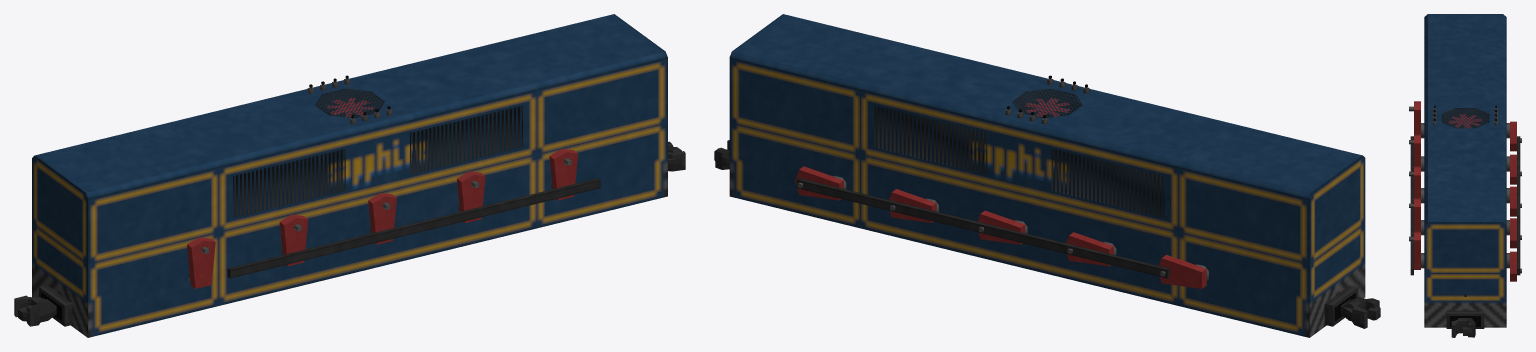
The model's file is sur_d2b.obj.
3 views of the same model, side by side, from view 1: azimuth 30°, elevation 25°; view 2: azimuth 150°, elevation 25°; view 3: azimuth 270°, elevation 25° (orthographic). The views are drawn at different scales.
Parts seen in each view (by area): view 1: FRAME, ENGINE_START_1_TOGGLE, FRAME.003, SIDE_ROD_LEFT, FRAME.007, WHEEL_DRIVER_5, WHEEL_DRIVER_1, WHEEL_DRIVER_2, WHEEL_DRIVER_3, WHEEL_DRIVER_4, COUPLED_FRONT_2_HIDE_INVERT, FRAME.008 (+1 smaller); view 2: FRAME, ENGINE_START_1_TOGGLE, FRAME.003, SIDE_ROD_RIGHT, FRAME.007, WHEEL_DRIVER_5, COUPLED_FRONT_2_HIDE_INVERT, FRAME.008, WHEEL_DRIVER_3, WHEEL_DRIVER_2, WHEEL_DRIVER_1, WHEEL_DRIVER_4 (+1 smaller); view 3: FRAME, FRAME.007, WHEEL_DRIVER_3, WHEEL_DRIVER_5, WHEEL_DRIVER_1, WHEEL_DRIVER_4, WHEEL_DRIVER_2, FRAME.008, SIDE_ROD_RIGHT, COUPLER_ENGAGED_REAR_2_TOGGLE_LABEL_Uncouple, SIDE_ROD_LEFT, COUPLED_REAR_4_HIDE_INVERT (+1 smaller).
Boxes of the visible parts, bbox=[...] form: FRAME: bbox=[32, 14, 667, 337]; ENGINE_START_1_TOGGLE: bbox=[233, 105, 522, 217]; FRAME.003: bbox=[234, 105, 521, 217]; SIDE_ROD_LEFT: bbox=[227, 178, 600, 278]; FRAME.007: bbox=[315, 88, 384, 118]; WHEEL_DRIVER_5: bbox=[187, 237, 215, 288]; WHEEL_DRIVER_1: bbox=[457, 171, 485, 222]; WHEEL_DRIVER_2: bbox=[279, 214, 308, 266]; WHEEL_DRIVER_3: bbox=[549, 149, 578, 200]; WHEEL_DRIVER_4: bbox=[368, 193, 396, 244]; COUPLED_FRONT_2_HIDE_INVERT: bbox=[14, 295, 56, 326]; FRAME.008: bbox=[315, 88, 384, 117]; FRAME: bbox=[729, 14, 1365, 337]; ENGINE_START_1_TOGGLE: bbox=[874, 105, 1164, 218]; FRAME.003: bbox=[875, 106, 1163, 217]; SIDE_ROD_RIGHT: bbox=[796, 178, 1169, 278]; FRAME.007: bbox=[1012, 88, 1082, 117]; WHEEL_DRIVER_5: bbox=[1159, 254, 1208, 288]; COUPLED_FRONT_2_HIDE_INVERT: bbox=[1341, 297, 1380, 328]; FRAME.008: bbox=[1012, 88, 1082, 117]; WHEEL_DRIVER_3: bbox=[795, 166, 846, 200]; WHEEL_DRIVER_2: bbox=[1066, 232, 1116, 266]; WHEEL_DRIVER_1: bbox=[889, 189, 938, 222]; WHEEL_DRIVER_4: bbox=[978, 210, 1027, 244]; FRAME: bbox=[1424, 14, 1506, 327]; FRAME.007: bbox=[1441, 108, 1489, 128]; WHEEL_DRIVER_3: bbox=[1409, 231, 1521, 281]; WHEEL_DRIVER_5: bbox=[1409, 101, 1521, 151]; WHEEL_DRIVER_1: bbox=[1409, 198, 1521, 248]; WHEEL_DRIVER_4: bbox=[1409, 166, 1521, 216]; WHEEL_DRIVER_2: bbox=[1409, 134, 1521, 184]; FRAME.008: bbox=[1441, 108, 1489, 128]; SIDE_ROD_RIGHT: bbox=[1517, 136, 1520, 275]; COUPLER_ENGAGED_REAR_2_TOGGLE_LABEL_Uncouple: bbox=[1446, 310, 1484, 328]; SIDE_ROD_LEFT: bbox=[1410, 136, 1413, 275]; COUPLED_REAR_4_HIDE_INVERT: bbox=[1451, 318, 1475, 337].
Size of the model in its own units: 10.25 by 2.49 by 2.06.
7 materials, 7 textured.
